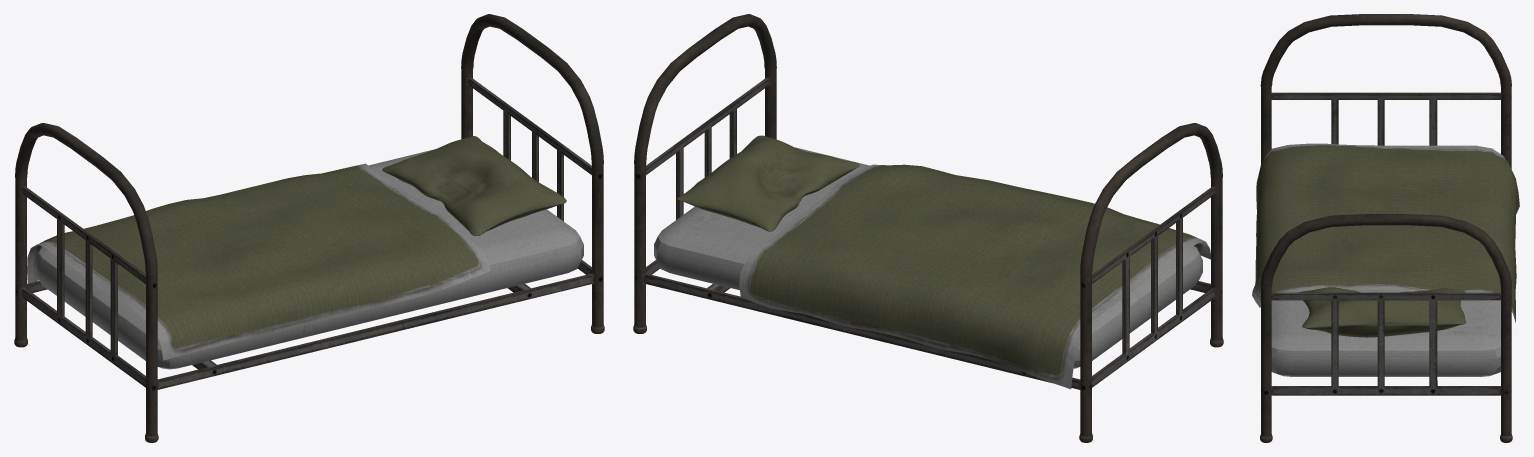
File: BED_23-10.gltf
3 views of the same model, side by side, from view 1: azimuth 30°, elevation 25°; view 2: azimuth 150°, elevation 25°; view 3: azimuth 270°, elevation 25° (orthographic). The views are drawn at different scales.
Visible parts, largest first — view 1: Object_0; view 2: Object_0; view 3: Object_0.
Part boxes in pixels (x1,y1,x2,y2): Object_0: (14, 14, 604, 442); Object_0: (633, 14, 1223, 442); Object_0: (1252, 14, 1519, 442).
Size of the model in its own units: 0.5998 by 0.3077 by 0.3305.
Materials: 1 (1 with a texture image).
